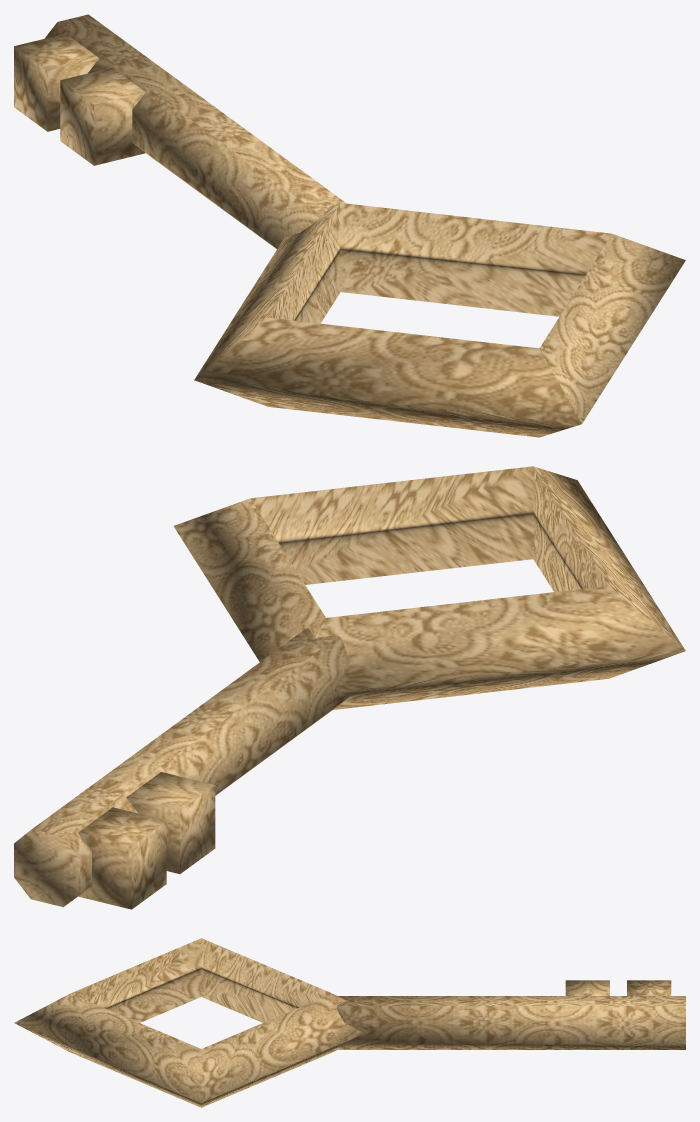
Rendered from key.fbx.
3 renders of one model, top to bottom at view 1: azimuth 30°, elevation 25°; view 2: azimuth 150°, elevation 25°; view 3: azimuth 270°, elevation 25°, orthographic. The views are drawn at different scales.
Visible parts, largest first — view 1: Cube; view 2: Cube; view 3: Cube.
Boxes of the visible parts, x1,y1,x2,y2 form: Cube: (14,14,685,437); Cube: (14,466,685,909); Cube: (14,938,685,1107).
Bounding box in the file's own units: 187 × 32.33 × 335.
